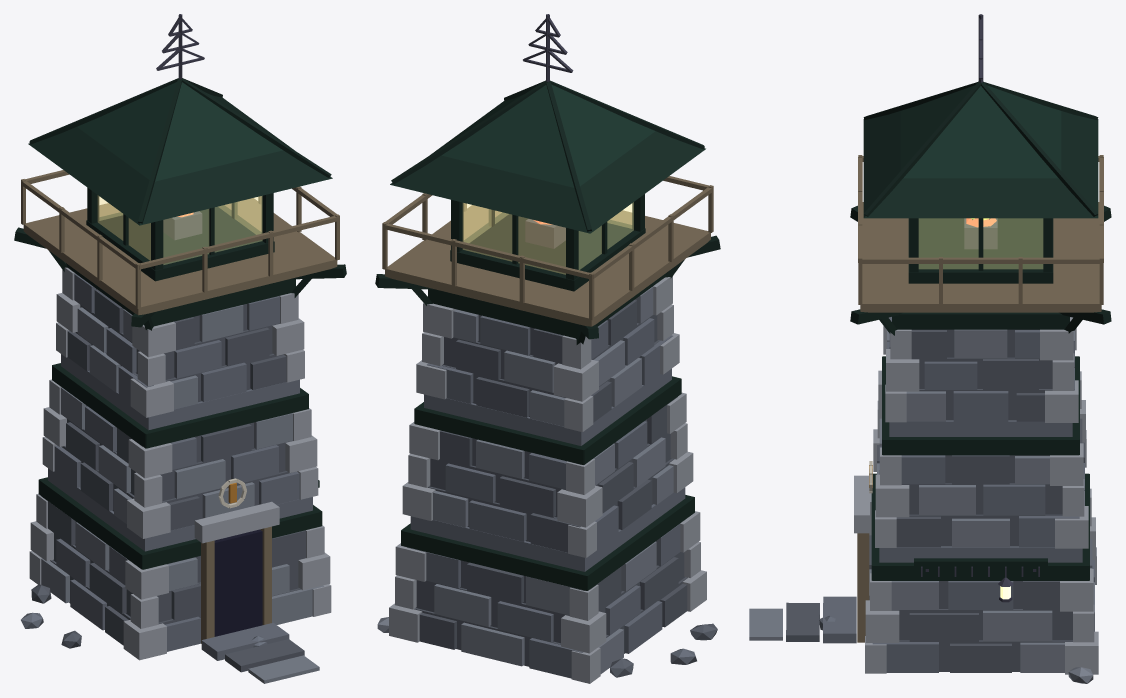
The model's file is thornwold_beacon_lit.glb.
The picture shows the model from 3 angles, left to right: view 1: azimuth 30°, elevation 25°; view 2: azimuth 150°, elevation 25°; view 3: azimuth 270°, elevation 25°; orthographic projection. The views are drawn at different scales.
Parts seen in each view (by area): view 1: slate_l30, pine_d62, slate_d5, slate_d20, driftwood_d40, slate_l8, pine_d55, pine_d45, kindle_glow_horn30, ink, ink_l15; view 2: pine_d62, slate_d5, slate_d20, slate_l30, slate_l8, driftwood_d40, pine_d55, pine_d45, kindle_glow_horn30, ink_l15; view 3: pine_d62, slate_d20, slate_d5, slate_l30, driftwood_d40, slate_l8, pine_d55, pine_d45, kindle_glow_horn30, ink_l15.
Part boxes in pixels (x1,y1,x2,y2): slate_l30: (29,267,331,660); pine_d62: (14,78,346,569); slate_d5: (21,273,312,660); slate_d20: (31,211,305,672); driftwood_d40: (21,170,339,643); slate_l8: (41,305,323,683); pine_d55: (28,94,332,225); pine_d45: (77,82,282,181); kindle_glow_horn30: (98,196,262,264); ink: (214,529,262,636); ink_l15: (156,14,204,79); pine_d62: (375,80,720,590); slate_d5: (407,315,696,678); slate_d20: (414,218,717,677); slate_l30: (389,276,706,683); slate_l8: (377,287,673,673); driftwood_d40: (382,176,713,326); pine_d55: (390,97,705,233); pine_d45: (441,84,655,187); kindle_glow_horn30: (463,202,633,274); ink_l15: (523,14,573,81); pine_d62: (850,81,1111,580); slate_d20: (786,218,1094,672); slate_d5: (819,317,1094,672); slate_l30: (854,317,1098,674); driftwood_d40: (857,155,1103,642); slate_l8: (749,317,1094,683); pine_d55: (863,111,1098,218); pine_d45: (900,85,1061,178); kindle_glow_horn30: (919,218,1042,268); ink_l15: (921,14,1039,602).
Size of the model in its own units: 4.79 by 10.15 by 5.4.
